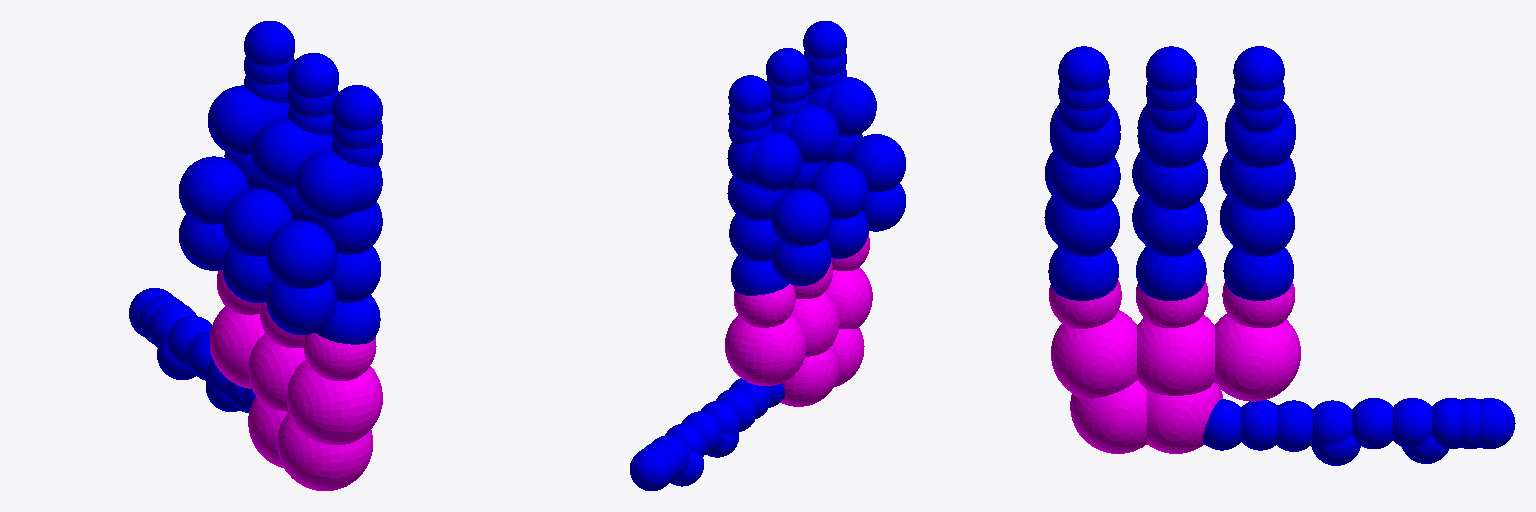
--- Render facts (derived) ---
The picture shows the robot from 3 angles, left to right: view 1: azimuth 30°, elevation 25°; view 2: azimuth 150°, elevation 25°; view 3: azimuth 270°, elevation 25°; orthographic projection.
Robot: leap_right — 71 links, 70 joints (16 revolute, 54 fixed); root link base; default pose: all joints at 0.
Links seen in each view (by area): view 1: palm_lower_collision_ball_2, palm_lower_collision_ball_3, pip_3_collision_ball_1, pip_collision_ball_1, pip_2_collision_ball_1, dip_3_collision_ball_2, dip_collision_ball_2, dip_2_collision_ball_2, pip_3_collision_ball_2, palm_lower_collision_ball_0, palm_lower_collision_ball_1, palm_lower_collision_ball_7 (+26 smaller); view 2: palm_lower_collision_ball_0, pip_collision_ball_1, dip_collision_ball_2, pip_3_collision_ball_1, pip_2_collision_ball_1, palm_lower_collision_ball_4, dip_3_collision_ball_2, dip_2_collision_ball_2, pip_collision_ball_2, palm_lower_collision_ball_1, palm_lower_collision_ball_2, palm_lower_collision_ball_5 (+23 smaller); view 3: palm_lower_collision_ball_0, palm_lower_collision_ball_2, palm_lower_collision_ball_1, palm_lower_collision_ball_3, palm_lower_collision_ball_4, pip_collision_ball_0, pip_2_collision_ball_0, pip_3_collision_ball_0, mcp_joint_collision_ball_0, mcp_joint_2_collision_ball_0, mcp_joint_3_collision_ball_0, dip_3_collision_ball_1 (+28 smaller).
Boxes of the visible links, <box> form: palm_lower_collision_ball_2: <box>287,360,382,444</box>; palm_lower_collision_ball_3: <box>277,412,372,490</box>; pip_3_collision_ball_1: <box>266,221,336,288</box>; pip_collision_ball_1: <box>179,156,248,224</box>; pip_2_collision_ball_1: <box>222,189,292,256</box>; dip_3_collision_ball_2: <box>295,150,355,219</box>; dip_collision_ball_2: <box>208,85,267,155</box>; dip_2_collision_ball_2: <box>252,118,311,187</box>; pip_3_collision_ball_2: <box>266,278,336,334</box>; palm_lower_collision_ball_0: <box>210,306,264,388</box>; palm_lower_collision_ball_1: <box>248,333,305,411</box>; palm_lower_collision_ball_7: <box>303,333,376,380</box>; palm_lower_collision_ball_0: <box>725,314,806,385</box>; pip_collision_ball_1: <box>771,189,831,246</box>; dip_collision_ball_2: <box>750,131,801,191</box>; pip_3_collision_ball_1: <box>846,134,905,191</box>; pip_2_collision_ball_1: <box>809,161,868,219</box>; palm_lower_collision_ball_4: <box>780,344,839,406</box>; dip_3_collision_ball_2: <box>826,77,876,136</box>; dip_2_collision_ball_2: <box>788,104,839,163</box>; pip_collision_ball_2: <box>771,238,831,285</box>; palm_lower_collision_ball_1: <box>792,291,839,356</box>; palm_lower_collision_ball_2: <box>826,267,872,328</box>; palm_lower_collision_ball_5: <box>734,284,795,327</box>; palm_lower_collision_ball_0: <box>1215,314,1300,401</box>; palm_lower_collision_ball_2: <box>1051,310,1136,398</box>; palm_lower_collision_ball_1: <box>1137,314,1214,395</box>; palm_lower_collision_ball_3: <box>1070,380,1146,453</box>; palm_lower_collision_ball_4: <box>1147,382,1222,453</box>; pip_collision_ball_0: <box>1224,199,1294,256</box>; pip_2_collision_ball_0: <box>1137,200,1207,256</box>; pip_3_collision_ball_0: <box>1049,199,1119,256</box>; mcp_joint_collision_ball_0: <box>1223,246,1293,300</box>; mcp_joint_2_collision_ball_0: <box>1136,247,1206,300</box>; mcp_joint_3_collision_ball_0: <box>1048,246,1118,300</box>; dip_3_collision_ball_1: <box>1050,156,1120,209</box>.
Size in the robot's own frame: 0.0689 by 0.2443 by 0.2375 metres.
Geometry: primitives only (box / cylinder / sphere), no mesh files.

The robot description file, URDF, robot "leap_right":
<?xml version="1.0" encoding="utf-8"?>
<robot name="leap_right">
  <link name="base"/>
  <joint name="base_joint" type="fixed">
    <parent link="base"/>
    <child link="palm_lower"/>
    <origin xyz="0 0.038 0.098" rpy="0 -1.57079 0"/>
  </joint>

  <link name="palm_lower">
    <inertial>
      <origin xyz="0 0 0" rpy="0 0 0"/>
      <mass value="0.237"/>
      <inertia ixx="0.000354094" ixy="-0.000001193" ixz="-0.000002445" iyy="0.000260915" iyz="-0.000002905" izz="0.000529257"/>
    </inertial>
  </link>

  <!-- palm balls -->

  <link name="palm_lower_collision_ball_0">
    <visual>
    <geometry>
    <sphere radius="0.025"/>
    </geometry>
    <material name="purple">
    <color rgba="1.0 0.0 1.0 1.0"/>
    </material>
    </visual>
    <collision>
    <geometry>
    <sphere radius="0.025"/>
    </geometry>
    </collision>
  </link>
  <joint name="palm_lower_collision_ball_0_joint" type="fixed">
    <parent link="palm_lower"/>
    <child link="palm_lower_collision_ball_0"/>
    <origin rpy="0 0 0" xyz="-0.045 0.005 -0.012 "/>
  </joint>

  <link name="palm_lower_collision_ball_1">
    <visual>
    <geometry>
    <sphere radius="0.025"/>
    </geometry>
    <material name="purple">
    <color rgba="1.0 0.0 1.0 1.0"/>
    </material>
    </visual>
    <collision>
    <geometry>
    <sphere radius="0.025"/>
    </geometry>
    </collision>
  </link>
  <joint name="palm_lower_collision_ball_1_joint" type="fixed">
    <parent link="palm_lower"/>
    <child link="palm_lower_collision_ball_1"/>
    <origin rpy="0 0 0" xyz="-0.045 -0.035 -0.012 "/>
  </joint>

  <link name="palm_lower_collision_ball_2">
    <visual>
    <geometry>
    <sphere radius="0.025"/>
    </geometry>
    <material name="purple">
    <color rgba="1.0 0.0 1.0 1.0"/>
    </material>
    </visual>
    <collision>
    <geometry>
    <sphere radius="0.025"/>
    </geometry>
    </collision>
  </link>
  <joint name="palm_lower_collision_ball_2_joint" type="fixed">
    <parent link="palm_lower"/>
    <child link="palm_lower_collision_ball_2"/>
    <origin rpy="0 0 0" xyz="-0.045 -0.075 -0.012 "/>
  </joint>

  <link name="palm_lower_collision_ball_3">
    <visual>
    <geometry>
    <sphere radius="0.025"/>
    </geometry>
    <material name="purple">
    <color rgba="1.0 0.0 1.0 1.0"/>
    </material>
    </visual>
    <collision>
    <geometry>
    <sphere radius="0.025"/>
    </geometry>
    </collision>
  </link>
  <joint name="palm_lower_collision_ball_3_joint" type="fixed">
    <parent link="palm_lower"/>
    <child link="palm_lower_collision_ball_3"/>
    <origin rpy="0 0 0" xyz="-0.075 -0.065 -0.012 "/>
  </joint>

  <link name="palm_lower_collision_ball_4">
    <visual>
    <geometry>
    <sphere radius="0.025"/>
    </geometry>
    <material name="purple">
    <color rgba="1.0 0.0 1.0 1.0"/>
    </material>
    </visual>
    <collision>
    <geometry>
    <sphere radius="0.025"/>
    </geometry>
    </collision>
  </link>
  <joint name="palm_lower_collision_ball_4_joint" type="fixed">
    <parent link="palm_lower"/>
    <child link="palm_lower_collision_ball_4"/>
    <origin rpy="0 0 0" xyz="-0.075 -0.035 -0.012 "/>
  </joint>

  <link name="palm_lower_collision_ball_5">
    <visual>
    <geometry>
    <sphere radius="0.019"/>
    </geometry>
    <material name="purple">
    <color rgba="1.0 0.0 1.0 1.0"/>
    </material>
    </visual>
    <collision>
    <geometry>
    <sphere radius="0.019"/>
    </geometry>
    </collision>
  </link>
  <joint name="palm_lower_collision_ball_5_joint" type="fixed">
    <parent link="palm_lower"/>
    <child link="palm_lower_collision_ball_5"/>
    <origin rpy="0 0 0" xyz="-0.012 0.008 -0.011 "/>
  </joint>

  <link name="palm_lower_collision_ball_6">
    <visual>
    <geometry>
    <sphere radius="0.019"/>
    </geometry>
    <material name="purple">
    <color rgba="1.0 0.0 1.0 1.0"/>
    </material>
    </visual>
    <collision>
    <geometry>
    <sphere radius="0.019"/>
    </geometry>
    </collision>
  </link>
  <joint name="palm_lower_collision_ball_6_joint" type="fixed">
    <parent link="palm_lower"/>
    <child link="palm_lower_collision_ball_6"/>
    <origin rpy="0 0 0" xyz="-0.012 -0.037 -0.011 "/>
  </joint>

  <link name="palm_lower_collision_ball_7">
    <visual>
    <geometry>
    <sphere radius="0.019"/>
    </geometry>
    <material name="purple">
    <color rgba="1.0 0.0 1.0 1.0"/>
    </material>
    </visual>
    <collision>
    <geometry>
    <sphere radius="0.019"/>
    </geometry>
    </collision>
  </link>
  <joint name="palm_lower_collision_ball_7_joint" type="fixed">
    <parent link="palm_lower"/>
    <child link="palm_lower_collision_ball_7"/>
    <origin rpy="0 0 0" xyz="-0.012 -0.082 -0.011 "/>
  </joint>

  <!-- index default -->

  <link name="mcp_joint">
    <inertial>
      <origin xyz="0 0 0" rpy="0 0 0"/>
      <mass value="0.044"/>
      <inertia ixx="0.000011499" ixy="0.000003049" ixz="0.000000121" iyy="0.000007796" iyz="0.000000112" izz="0.000014759"/>
    </inertial>
  </link>
  <link name="pip">
    <inertial>
      <origin xyz="0 0 0" rpy="0 0 0"/>
      <mass value="0.032"/>
      <inertia ixx="0.000004798" ixy="0.000000012" ixz="0.000000004" iyy="0.000002862" iyz="0.000000011" izz="0.000004234"/>
    </inertial>
  </link>
  <link name="dip">
    <inertial>
      <origin xyz="0 0 0" rpy="0 0 0"/>
      <mass value="0.037"/>
      <inertia ixx="0.000005542" ixy="-0.000000607" ixz="-0.000000017" iyy="0.000005727" iyz="-0.000000023" izz="0.000006682"/>
    </inertial>
  </link>
  <link name="fingertip">
    <inertial>
      <origin xyz="0 0 0" rpy="0 0 0"/>
      <mass value="0.016"/>
      <inertia ixx="0.000003368" ixy="0.000000115" ixz="0" iyy="0.000001556" iyz="0" izz="0.000002863"/>
    </inertial>
  </link>

  <joint name="0" type="revolute">
    <origin xyz="-0.0122 0.03810 0.01450" rpy="-1.57079 0 1.57079"/>
    <parent link="mcp_joint"/>
    <child link="pip"/>
    <axis xyz="0 0 -1"/>
    <limit effort="0.95" velocity="8.48" lower="-1.047" upper="1.047"/>
    <joint_properties friction="0.0"/>
  </joint>
  <joint name="1" type="revolute">
    <origin xyz="-0.0070 0.0230 -0.0187" rpy="1.57079 1.57079 0"/>
    <parent link="palm_lower"/>
    <child link="mcp_joint"/>
    <axis xyz="0 0 -1"/>
    <limit effort="0.95" velocity="8.48" lower="-0.314" upper="2.23"/>
    <joint_properties friction="0.0"/>
  </joint>
  <joint name="2" type="revolute">
    <origin xyz="0.015 0.0143 -0.013" rpy="1.57079 -1.57079 0"/>
    <parent link="pip"/>
    <child link="dip"/>
    <axis xyz="0 0 -1"/>
    <limit effort="0.95" velocity="8.48" lower="-0.506" upper="1.885"/>
    <joint_properties friction="0.0"/>
  </joint>
  <joint name="3" type="revolute">
    <origin xyz="0 -0.0361 0.0002" rpy="0 0 0"/>
    <parent link="dip"/>
    <child link="fingertip"/>
    <axis xyz="0 0 -1"/>
    <limit effort="0.95" velocity="8.48" lower="-0.366" upper="2.042"/>
    <joint_properties friction="0.0"/>
  </joint>

  <!-- index balls -->

  <link name="fingertip_collision_ball_0">
    <visual>
      <geometry>
        <sphere radius="0.0134"/>
      </geometry>
      <material name="blue">
      <color rgba="0.0 0.0 1.0 1.0"/>
    </material>
    </visual>
    <collision>
      <geometry>
      <sphere radius="0.0134"/>
      </geometry>
    </collision>
  </link>
  <joint name="fingertip_collision_ball_0_joint" type="fixed">
    <parent link="fingertip"/>
    <child link="fingertip_collision_ball_0"/>
    <origin rpy="0 0 0" xyz="-0.0015 -0.0382 0.0145"/>
  </joint>

  <link name="fingertip_collision_ball_1">
    <visual>
      <geometry>
      <sphere radius="0.0134"/>
      </geometry>
      <material name="blue">
      <color rgba="0.0 0.0 1.0 1.0"/>
      </material>
    </visual>
    <collision>
      <geometry>
      <sphere radius="0.0134"/>
      </geometry>
    </collision>

  </link>
  <joint name="fingertip_collision_ball_1_joint" type="fixed">
    <parent link="fingertip"/>
    <child link="fingertip_collision_ball_1"/>
    <origin rpy="0 0 0" xyz="-0.0015 -0.0162 0.0145"/>
  </joint>

  <link name="fingertip_collision_ball_2">
    <visual>
      <geometry>
      <sphere radius="0.0134"/>
      </geometry>
      <material name="blue">
      <color rgba="0.0 0.0 1.0 1.0"/>
      </material>
    </visual>
    <collision>
      <geometry>
      <sphere radius="0.0134"/>
      </geometry>
    </collision>

  </link>
  <joint name="fingertip_collision_ball_2_joint" type="fixed">
    <parent link="fingertip"/>
    <child link="fingertip_collision_ball_2"/>
    <origin rpy="0 0 0" xyz="-0.0015 -0.0272 0.0145"/>
  </joint>

  <link name="dip_collision_ball_0">
    <visual>
      <geometry>
      <sphere radius="0.0184"/>
      </geometry>
      <material name="blue">
      <color rgba="0.0 0.0 1.0 1.0"/>
      </material>
    </visual>
    <collision>
      <geometry>
      <sphere radius="0.0184"/>
      </geometry>
    </collision>
  </link>
  <joint name="dip_collision_ball_0_joint" type="fixed">
    <parent link="dip"/>
    <child link="dip_collision_ball_0"/>
    <origin rpy="0 0 0" xyz="0.004 -0.035  0.014"/>
  </joint>

  <link name="dip_collision_ball_1">
    <visual>
    <geometry>
    <sphere radius="0.0184"/>
    </geometry>
    <material name="blue">
    <color rgba="0.0 0.0 1.0 1.0"/>
    </material>
    </visual>
    <collision>
    <geometry>
    <sphere radius="0.0184"/>
    </geometry>
    </collision>
  </link>
  <joint name="dip_collision_ball_1_joint" type="fixed">
    <parent link="dip"/>
    <child link="dip_collision_ball_1"/>
    <origin rpy="0 0 0" xyz="0.004 -0.012  0.014"/>
  </joint>

  <link name="dip_collision_ball_2">
    <visual>
      <geometry>
      <sphere radius="0.0184"/>
      </geometry>
      <material name="blue">
      <color rgba="0.0 0.0 1.0 1.0"/>
      </material>
    </visual>
    <collision>
      <geometry>
      <sphere radius="0.0184"/>
      </geometry>
    </collision>
  </link>
  <joint name="dip_collision_ball_2_joint" type="fixed">
    <parent link="dip"/>
    <child link="dip_collision_ball_2"/>
    <origin rpy="0 0 0" xyz="0.014 -0.035  0.014"/>
  </joint>

  <link name="pip_collision_ball_0">
    <visual>
    <geometry>
    <sphere radius="0.0184"/>
    </geometry>
    <material name="blue">
    <color rgba="0.0 0.0 1.0 1.0"/>
    </material>
    </visual>
    <collision>
    <geometry>
    <sphere radius="0.0184"/>
    </geometry>
    </collision>
  </link>
  <joint name="pip_collision_ball_0_joint" type="fixed">
    <parent link="pip"/>
    <child link="pip_collision_ball_0"/>
    <origin rpy="0 0 0" xyz="0.00 0.0 -0.008"/>  
  </joint>

  <link name="pip_collision_ball_1">
    <visual>
    <geometry>
    <sphere radius="0.0184"/>
    </geometry>
    <material name="blue">
    <color rgba="0.0 0.0 1.0 1.0"/>
    </material>
    </visual>
    <collision>
    <geometry>
    <sphere radius="0.0184"/>
    </geometry>
    </collision>
  </link>
  <joint name="pip_collision_ball_1_joint" type="fixed">
    <parent link="pip"/>
    <child link="pip_collision_ball_1"/>
    <origin rpy="0 0 0" xyz="0.015 -0.0025 0.02"/>  
  </joint>

  <link name="pip_collision_ball_2">
    <visual>
    <geometry>
    <sphere radius="0.0184"/>
    </geometry>
    <material name="blue">
    <color rgba="0.0 0.0 1.0 1.0"/>
    </material>
    </visual>
    <collision>
    <geometry>
    <sphere radius="0.0184"/>
    </geometry>
    </collision>
  </link>
  <joint name="pip_collision_ball_2_joint" type="fixed">
    <parent link="pip"/>
    <child link="pip_collision_ball_2"/>
    <origin rpy="0 0 0" xyz="-0.01 -0.0025 0.02"/>  
  </joint>

  <link name="mcp_joint_collision_ball_0">
    <visual>
      <geometry>
      <sphere radius="0.0184"/>
      </geometry>
      <material name="blue">
      <color rgba="0.0 0.0 1.0 1.0"/>
      </material>
    </visual>
    <collision>
      <geometry>
      <sphere radius="0.0184"/>
      </geometry>
    </collision>
  </link>
  <joint name="mcp_joint_collision_ball_0_joint" type="fixed">
    <parent link="mcp_joint"/>
    <child link="mcp_joint_collision_ball_0"/>
    <origin rpy="0 0 0" xyz="-0.005 0.01 0.015"/>
  </joint>

  <!-- middle default -->

  <link name="mcp_joint_2">
    <inertial>
    <origin xyz="0 0 0" rpy="0 0 0"/>
    <mass value="0.044" />
    <inertia ixx="0.000011499" ixy="0.000003049"  ixz="0.000000121" iyy="0.000007796" iyz="0.000000112" izz="0.000014759" />
    </inertial>
  </link>
  <link name="pip_2">
    <inertial>
    <origin xyz="0 0 0" rpy="0 0 0"/>
    <mass value="0.032" />
    <inertia ixx="0.000004798" ixy="0.000000012"  ixz="0.000000004" iyy="0.000002862" iyz="0.000000011" izz="0.000004234" />
    </inertial>
  </link>
  <link name="dip_2">
    <inertial>
    <origin xyz="0 0 0" rpy="0 0 0"/>
    <mass value="0.037" />
    <inertia ixx="0.000005542" ixy="-0.000000607"  ixz="-0.000000017" iyy="0.000005727" iyz="-0.000000023" izz="0.000006682" />
    </inertial>
  </link>
  <link name="fingertip_2">
    <inertial>
    <origin xyz="0 0 0" rpy="0 0 0"/>
    <mass value="0.016" />
    <inertia ixx="0.000003368" ixy="0.000000115"  ixz="0" iyy="0.000001556" iyz="0" izz="0.000002863" />
    </inertial>
  </link>

  <joint name="4" type="revolute">
    <origin xyz="-0.0122 0.0381 0.0145" rpy="-1.57079 0 1.57079"/>
    <parent link="mcp_joint_2"/>
    <child link="pip_2"/>
    <axis xyz="0 0 -1"/>
    <limit effort="0.95" velocity="8.48" lower="-1.047" upper="1.047"/>
    <joint_properties friction="0.0"/>
  </joint>
  <joint name="5" type="revolute">
    <origin xyz="-0.0071 -0.0224 -0.0187" rpy="1.57079 1.57079 0"/>
    <parent link="palm_lower"/>
    <child link="mcp_joint_2"/>
    <axis xyz="0 0 -1"/>
    <limit effort="0.95" velocity="8.48" lower="-0.314" upper="2.23"/>
    <joint_properties friction="0.0"/>
  </joint>
  <joint name="6" type="revolute">
    <origin xyz="0.015 0.0143 -0.013" rpy="1.57079 -1.57079 0"/>
    <parent link="pip_2"/>
    <child link="dip_2"/>
    <axis xyz="0 0 -1"/>
    <limit effort="0.95" velocity="8.48" lower="-0.506" upper="1.885"/>
    <joint_properties friction="0.0"/>
  </joint>
  <joint name="7" type="revolute">
    <origin xyz="0 -0.0361 0.0002" rpy="0 0 0"/>
    <parent link="dip_2"/>
    <child link="fingertip_2"/>
    <axis xyz="0 0 -1"/>
    <limit effort="0.95" velocity="8.48" lower="-0.366" upper="2.042"/>
    <joint_properties friction="0.0"/>
  </joint>

  <!-- middle balls -->

  <link name="fingertip_2_collision_ball_0">
    <visual>
    <geometry>
    <sphere radius="0.0134"/>
    </geometry>
    <material name="blue">
    <color rgba="0.0 0.0 1.0 1.0"/>
    </material>
    </visual>
    <collision>
    <geometry>
    <sphere radius="0.0134"/>
    </geometry>
    </collision>
  </link>
  <joint name="fingertip_2_collision_ball_0_joint" type="fixed">
    <parent link="fingertip_2"/>
    <child link="fingertip_2_collision_ball_0"/>
    <origin rpy="0 0 0" xyz="-0.0015 -0.0382 0.0145"/>
  </joint>

  <link name="fingertip_2_collision_ball_1">
    <visual>
    <geometry>
    <sphere radius="0.0134"/>
    </geometry>
    <material name="blue">
    <color rgba="0.0 0.0 1.0 1.0"/>
    </material>
    </visual>
    <collision>
    <geometry>
    <sphere radius="0.0134"/>
    </geometry>
    </collision>
  </link>
  <joint name="fingertip_2_collision_ball_1_joint" type="fixed">
    <parent link="fingertip_2"/>
    <child link="fingertip_2_collision_ball_1"/>
    <origin rpy="0 0 0" xyz="-0.0015 -0.0162 0.0145"/>
  </joint>

  <link name="fingertip_2_collision_ball_2">
    <visual>
      <geometry>
      <sphere radius="0.0134"/>
      </geometry>
      <material name="blue">
      <color rgba="0.0 0.0 1.0 1.0"/>
      </material>
    </visual>
    <collision>
      <geometry>
      <sphere radius="0.0134"/>
      </geometry>
    </collision>
  </link>
  <joint name="fingertip_2_collision_ball_2_joint" type="fixed">
    <parent link="fingertip_2"/>
    <child link="fingertip_2_collision_ball_2"/>
    <origin rpy="0 0 0" xyz="-0.0015 -0.0272 0.0145"/>
  </joint>

  <link name="dip_2_collision_ball_0">
    <visual>
      <geometry>
      <sphere radius="0.0184"/>
      </geometry>
      <material name="blue">
      <color rgba="0.0 0.0 1.0 1.0"/>
      </material>
    </visual>
    <collision>
      <geometry>
      <sphere radius="0.0184"/>
      </geometry>
    </collision>
  </link>
  <joint name="dip_2_collision_ball_0_joint" type="fixed">
    <parent link="dip_2"/>
    <child link="dip_2_collision_ball_0"/>
    <origin rpy="0 0 0" xyz="0.004 -0.035  0.014"/>
  </joint>

  <link name="dip_2_collision_ball_1">
    <visual>
    <geometry>
    <sphere radius="0.0184"/>
    </geometry>
    <material name="blue">
    <color rgba="0.0 0.0 1.0 1.0"/>
    </material>
    </visual>
    <collision>
    <geometry>
    <sphere radius="0.0184"/>
    </geometry>
    </collision>
  </link>
  <joint name="dip_2_collision_ball_1_joint" type="fixed">
    <parent link="dip_2"/>
    <child link="dip_2_collision_ball_1"/>
    <origin rpy="0 0 0" xyz="0.004 -0.012  0.014"/>
  </joint>

  <link name="dip_2_collision_ball_2">
    <visual>
      <geometry>
      <sphere radius="0.0184"/>
      </geometry>
      <material name="blue">
      <color rgba="0.0 0.0 1.0 1.0"/>
      </material>
    </visual>
    <collision>
      <geometry>
      <sphere radius="0.0184"/>
      </geometry>
    </collision>
  </link>
  <joint name="dip_2_collision_ball_2_joint" type="fixed">
    <parent link="dip_2"/>
    <child link="dip_2_collision_ball_2"/>
    <origin rpy="0 0 0" xyz="0.014 -0.035  0.014"/>
  </joint>

  <link name="pip_2_collision_ball_0">
    <visual>
    <geometry>
    <sphere radius="0.0184"/>
    </geometry>
    <material name="blue">
    <color rgba="0.0 0.0 1.0 1.0"/>
    </material>
    </visual>
    <collision>
    <geometry>
    <sphere radius="0.0184"/>
    </geometry>
    </collision>
  </link>
  <joint name="pip_2_collision_ball_0_joint" type="fixed">
    <parent link="pip_2"/>
    <child link="pip_2_collision_ball_0"/>
    <origin rpy="0 0 0" xyz="0.00 0.0 -0.008"/>  
  </joint>

  <link name="pip_2_collision_ball_1">
    <visual>
    <geometry>
    <sphere radius="0.0184"/>
    </geometry>
    <material name="blue">
    <color rgba="0.0 0.0 1.0 1.0"/>
    </material>
    </visual>
    <collision>
    <geometry>
    <sphere radius="0.0184"/>
    </geometry>
    </collision>
  </link>
  <joint name="pip_2_collision_ball_1_joint" type="fixed">
    <parent link="pip_2"/>
    <child link="pip_2_collision_ball_1"/>
    <origin rpy="0 0 0" xyz="0.015 -0.0025 0.02"/> 
  </joint>

  <link name="pip_2_collision_ball_2">
    <visual>
    <geometry>
    <sphere radius="0.0184"/>
    </geometry>
    <material name="blue">
    <color rgba="0.0 0.0 1.0 1.0"/>
    </material>
    </visual>
    <collision>
    <geometry>
    <sphere radius="0.0184"/>
    </geometry>
    </collision>
  </link>
  <joint name="pip_2_collision_ball_2_joint" type="fixed">
    <parent link="pip_2"/>
    <child link="pip_2_collision_ball_2"/>
    <origin rpy="0 0 0" xyz="-0.01 -0.0025 0.02"/>  
  </joint>

  <link name="mcp_joint_2_collision_ball_0">
    <visual>
    <geometry>
    <sphere radius="0.0184"/>
    </geometry>
    <material name="blue">
    <color rgba="0.0 0.0 1.0 1.0"/>
    </material>
    </visual>
    <collision>
    <geometry>
    <sphere radius="0.0184"/>
    </geometry>
    </collision>
  </link>
  <joint name="mcp_joint_2_collision_ball_0_joint" type="fixed">
    <parent link="mcp_joint_2"/>
    <child link="mcp_joint_2_collision_ball_0"/>
    <origin rpy="0 0 0" xyz="-0.005 0.01 0.015"/>
  </joint>


  <!-- ring default -->

  <link name="mcp_joint_3">
    <inertial>
      <origin xyz="0 0 0" rpy="0 0 0"/>
      <mass value="0.044"/>
      <inertia ixx="0.000011499" ixy="0.000003049" ixz="0.000000121" iyy="0.000007796" iyz="0.000000112" izz="0.000014759"/>
    </inertial>
  </link>
  <link name="pip_3">
    <inertial>
      <origin xyz="0 0 0" rpy="0 0 0"/>
      <mass value="0.032"/>
      <inertia ixx="0.000004798" ixy="0.000000012" ixz="0.000000004" iyy="0.000002862" iyz="0.000000011" izz="0.000004234"/>
    </inertial>
  </link>
  <link name="dip_3">
    <inertial>
      <origin xyz="0 0 0" rpy="0 0 0"/>
      <mass value="0.037"/>
      <inertia ixx="0.000005542" ixy="-0.000000607" ixz="-0.000000017" iyy="0.000005727" iyz="-0.000000023" izz="0.000006682"/>
    </inertial>
  </link>
  <link name="fingertip_3">
    <inertial>
      <origin xyz="0 0 0" rpy="0 0 0"/>
      <mass value="0.016"/>
      <inertia ixx="0.000003368" ixy="0.000000115" ixz="0" iyy="0.000001556" iyz="0" izz="0.000002863"/>
    </inertial>
  </link>
  <joint name="8" type="revolute">
    <origin xyz="-0.0122 0.0381 0.0145" rpy="-1.57079 0 1.57079"/>
    <parent link="mcp_joint_3"/>
    <child link="pip_3"/>
    <axis xyz="0 0 -1"/>
    <limit effort="0.95" velocity="8.48" lower="-1.047" upper="1.047"/>
    <joint_properties friction="0.0"/>
  </joint>
  <joint name="9" type="revolute">
    <origin xyz="-0.00709 -0.0678 -0.0187" rpy="1.57079 1.57079 0"/>
    <parent link="palm_lower"/>
    <child link="mcp_joint_3"/>
    <axis xyz="0 0 -1"/>
    <limit effort="0.95" velocity="8.48" lower="-0.314" upper="2.23"/>
    <joint_properties friction="0.0"/>
  </joint>
  <joint name="10" type="revolute">
    <origin xyz="0.015 0.0143 -0.013" rpy="1.57079 -1.57079 0"/>
    <parent link="pip_3"/>
    <child link="dip_3"/>
    <axis xyz="0 0 -1"/>
    <limit effort="0.95" velocity="8.48" lower="-0.506" upper="1.885"/>
    <joint_properties friction="0.0"/>
  </joint>
  <joint name="11" type="revolute">
    <origin xyz="0 -0.03609 0.0002" rpy="0 0 0"/>
    <parent link="dip_3"/>
    <child link="fingertip_3"/>
    <axis xyz="0 0 -1"/>
    <limit effort="0.95" velocity="8.48" lower="-0.366" upper="2.042"/>
    <joint_properties friction="0.0"/>
  </joint>

  <!-- ring balls -->

  <link name="fingertip_3_collision_ball_0">
    <visual>
    <geometry>
    <sphere radius="0.0134"/>
    </geometry>
    <material name="blue">
    <color rgba="0.0 0.0 1.0 1.0"/>
    </material>
    </visual>
    <collision>
    <geometry>
    <sphere radius="0.0134"/>
    </geometry>
    </collision>
  </link>
  <joint name="fingertip_3_collision_ball_0_joint" type="fixed">
    <parent link="fingertip_3"/>
    <child link="fingertip_3_collision_ball_0"/>
    <origin rpy="0 0 0" xyz="-0.0015 -0.0382 0.0145"/>
  </joint>

  <link name="fingertip_3_collision_ball_1">
    <visual>
    <geometry>
    <sphere radius="0.0134"/>
    </geometry>
    <material name="blue">
    <color rgba="0.0 0.0 1.0 1.0"/>
    </material>
    </visual>
    <collision>
    <geometry>
    <sphere radius="0.0134"/>
    </geometry>
    </collision>
  </link>
  <joint name="fingertip_3_collision_ball_1_joint" type="fixed">
    <parent link="fingertip_3"/>
    <child link="fingertip_3_collision_ball_1"/>
    <origin rpy="0 0 0" xyz="-0.0015 -0.0162 0.0145"/>
  </joint>

  <link name="fingertip_3_collision_ball_2">
    <visual>
      <geometry>
      <sphere radius="0.0134"/>
      </geometry>
      <material name="blue">
      <color rgba="0.0 0.0 1.0 1.0"/>
      </material>
    </visual>
    <collision>
      <geometry>
      <sphere radius="0.0134"/>
      </geometry>
    </collision>
  </link>
  <joint name="fingertip_3_collision_ball_2_joint" type="fixed">
    <parent link="fingertip_3"/>
    <child link="fingertip_3_collision_ball_2"/>
    <origin rpy="0 0 0" xyz="-0.0015 -0.0272 0.0145"/>
  </joint>

  <link name="dip_3_collision_ball_0">
    <visual>
      <geometry>
      <sphere radius="0.0184"/>
      </geometry>
      <material name="blue">
      <color rgba="0.0 0.0 1.0 1.0"/>
      </material>
    </visual>
    <collision>
      <geometry>
      <sphere radius="0.0184"/>
      </geometry>
    </collision>
  </link>
  <joint name="dip_3_collision_ball_0_joint" type="fixed">
    <parent link="dip_3"/>
    <child link="dip_3_collision_ball_0"/>
    <origin rpy="0 0 0" xyz="0.004 -0.035  0.014"/>
  </joint>

  <link name="dip_3_collision_ball_1">
    <visual>
    <geometry>
    <sphere radius="0.0184"/>
    </geometry>
    <material name="blue">
    <color rgba="0.0 0.0 1.0 1.0"/>
    </material>
    </visual>
    <collision>
    <geometry>
    <sphere radius="0.0184"/>
    </geometry>
    </collision>
  </link>
  <joint name="dip_3_collision_ball_1_joint" type="fixed">
    <parent link="dip_3"/>
    <child link="dip_3_collision_ball_1"/>
    <origin rpy="0 0 0" xyz="0.004 -0.012  0.014"/>
  </joint>

  <link name="dip_3_collision_ball_2">
    <visual>
      <geometry>
      <sphere radius="0.0184"/>
      </geometry>
      <material name="blue">
      <color rgba="0.0 0.0 1.0 1.0"/>
      </material>
    </visual>
    <collision>
      <geometry>
      <sphere radius="0.0184"/>
      </geometry>
    </collision>
  </link>
  <joint name="dip_3_collision_ball_2_joint" type="fixed">
    <parent link="dip_3"/>
    <child link="dip_3_collision_ball_2"/>
    <origin rpy="0 0 0" xyz="0.014 -0.035  0.014"/>
  </joint>

  <link name="pip_3_collision_ball_0">
    <visual>
    <geometry>
    <sphere radius="0.0184"/>
    </geometry>
    <material name="blue">
    <color rgba="0.0 0.0 1.0 1.0"/>
    </material>
    </visual>
    <collision>
    <geometry>
    <sphere radius="0.0184"/>
    </geometry>
    </collision>
  </link>
  <joint name="pip_3_collision_ball_0_joint" type="fixed">
    <parent link="pip_3"/>
    <child link="pip_3_collision_ball_0"/>
    <origin rpy="0 0 0" xyz="0.00 0.0 -0.008"/>  
  </joint>

  <link name="pip_3_collision_ball_1">
    <visual>
    <geometry>
    <sphere radius="0.0184"/>
    </geometry>
    <material name="blue">
    <color rgba="0.0 0.0 1.0 1.0"/>
    </material>
    </visual>
    <collision>
    <geometry>
    <sphere radius="0.0184"/>
    </geometry>
    </collision>
  </link>
  <joint name="pip_3_collision_ball_1_joint" type="fixed">
    <parent link="pip_3"/>
    <child link="pip_3_collision_ball_1"/>
    <origin rpy="0 0 0" xyz="0.015 -0.0025 0.02"/> 
  </joint>

  <link name="pip_3_collision_ball_2">
    <visual>
    <geometry>
    <sphere radius="0.0184"/>
    </geometry>
    <material name="blue">
    <color rgba="0.0 0.0 1.0 1.0"/>
    </material>
    </visual>
    <collision>
    <geometry>
    <sphere radius="0.0184"/>
    </geometry>
    </collision>
  </link>
  <joint name="pip_3_collision_ball_2_joint" type="fixed">
    <parent link="pip_3"/>
    <child link="pip_3_collision_ball_2"/>
    <origin rpy="0 0 0" xyz="-0.01 -0.0025 0.02"/>  
  </joint>

  <link name="mcp_joint_3_collision_ball_0">
    <visual>
    <geometry>
    <sphere radius="0.0184"/>
    </geometry>
    <material name="blue">
    <color rgba="0.0 0.0 1.0 1.0"/>
    </material>
    </visual>
    <collision>
    <geometry>
    <sphere radius="0.0184"/>
    </geometry>
    </collision>
  </link>
  <joint name="mcp_joint_3_collision_ball_0_joint" type="fixed">
    <parent link="mcp_joint_3"/>
    <child link="mcp_joint_3_collision_ball_0"/>
    <origin rpy="0 0 0" xyz="-0.005 0.01 0.015"/>
  </joint>

  <!-- thumb default -->

  <link name="thumb_temp_base">
    <inertial>
      <origin xyz="0 0 0" rpy="0 0 0"/>
      <mass value="0.032"/>
      <inertia ixx="0.000004798" ixy="0.000000012" ixz="0.000000004" iyy="0.000002862" iyz="0.000000011" izz="0.000004234"/>
    </inertial>
  </link>
  <link name="thumb_pip">
    <inertial>
      <origin xyz="0 0 0" rpy="0 0 0"/>
      <mass value="0.003"/>
      <inertia ixx="0.000000593" ixy="0" ixz="0" iyy="0.000000549" iyz="0" izz="0.000000224"/>
    </inertial>
  </link>
  <link name="thumb_dip">
    <inertial>
      <origin xyz="0 0 0" rpy="0 0 0"/>
      <mass value="0.038"/>
      <inertia ixx="0.000008474" ixy="0.000000241" ixz="0.000000026" iyy="0.000003841" iyz="0.000000025" izz="0.000007679"/>
    </inertial>
  </link>
  <link name="thumb_fingertip">
    <inertial>
      <origin xyz="0 0 0" rpy="0 0 0"/>
      <mass value="0.049"/>
      <inertia ixx="0.000020372" ixy="-0.000000489" ixz="-0.00000003" iyy="0.000004336" iyz="-0.000000097" izz="0.000019845"/>
    </inertial>
  </link>
  <joint name="12" type="revolute">
    <origin xyz="-0.0693 -0.0012 -0.0216" rpy="0 1.57079 0"/>
    <parent link="palm_lower"/>
    <child link="thumb_temp_base"/>
    <axis xyz="0 0 -1"/>
    <limit effort="0.95" velocity="8.48" lower="-0.349" upper="2.094"/>
    <joint_properties friction="0.0"/>
  </joint>
  <joint name="13" type="revolute">
    <origin xyz="0 0.0143 -0.013" rpy="1.57079 -1.57079 0"/>
    <parent link="thumb_temp_base"/>
    <child link="thumb_pip"/>
    <axis xyz="0 0 -1"/>
    <limit effort="0.95" velocity="8.48" lower="-0.47" upper="2.443"/>
    <joint_properties friction="0.0"/>
  </joint>
  <joint name="14" type="revolute">
    <origin xyz="0 0.0145 -0.017" rpy="-1.57079 0 0"/>
    <parent link="thumb_pip"/>
    <child link="thumb_dip"/>
    <axis xyz="0 0 -1"/>
    <limit effort="0.95" velocity="8.48" lower="-1.20" upper="1.90"/>
    <joint_properties friction="0.0"/>
  </joint>
  <joint name="15" type="revolute">
    <origin xyz="0 0.0466 0.0002" rpy="0 0 3.14159"/>
    <parent link="thumb_dip"/>
    <child link="thumb_fingertip"/>
    <axis xyz="0 0 -1"/>
    <limit effort="0.95" velocity="8.48" lower="-1.34" upper="1.88"/>
    <joint_properties friction="0.0"/>
  </joint>

  <!-- thumb balls -->

  <link name="thumb_fingertip_collision_ball_0">
    <visual>
    <geometry>
    <sphere radius="0.0134"/>
    </geometry>
    <material name="blue">
    <color rgba="0.0 0.0 1.0 1.0"/>
    </material>
    </visual>
    <collision>
    <geometry>
    <sphere radius="0.0134"/>
    </geometry>
    </collision>
  </link>
  <joint name="thumb_fingertip_collision_ball_0_joint" type="fixed">
    <parent link="thumb_fingertip"/>
    <child link="thumb_fingertip_collision_ball_0"/>
    <origin rpy="0 0 0" xyz="-0.0015 -0.051 -0.0143"/>
  </joint>

  <link name="thumb_fingertip_collision_ball_1">
    <visual>
    <geometry>
    <sphere radius="0.0134"/>
    </geometry>
    <material name="blue">
    <color rgba="0.0 0.0 1.0 1.0"/>
    </material>
    </visual>
    <collision>
    <geometry>
    <sphere radius="0.0134"/>
    </geometry>
    </collision>
  </link>
  <joint name="thumb_fingertip_collision_ball_1_joint" type="fixed">
    <parent link="thumb_fingertip"/>
    <child link="thumb_fingertip_collision_ball_1"/>
    <origin rpy="0 0 0" xyz="-0.0015 -0.031 -0.0143"/>
  </joint>

  <link name="thumb_fingertip_collision_ball_2">
    <visual>
    <geometry>
    <sphere radius="0.0134"/>
    </geometry>
    <material name="blue">
    <color rgba="0.0 0.0 1.0 1.0"/>
    </material>
    </visual>
    <collision>
    <geometry>
    <sphere radius="0.0134"/>
    </geometry>
    </collision>
  </link>
  <joint name="thumb_fingertip_collision_ball_2_joint" type="fixed">
    <parent link="thumb_fingertip"/>
    <child link="thumb_fingertip_collision_ball_2"/>
    <origin rpy="0 0 0" xyz="-0.0015 -0.011 -0.0143"/>
  </joint>

  <link name="thumb_fingertip_collision_ball_3">
    <visual>
    <geometry>
    <sphere radius="0.0134"/>
    </geometry>
    <material name="blue">
    <color rgba="0.0 0.0 1.0 1.0"/>
    </material>
    </visual>
    <collision>
    <geometry>
    <sphere radius="0.0134"/>
    </geometry>
    </collision>
  </link>
  <joint name="thumb_fingertip_collision_ball_3_joint" type="fixed">
    <parent link="thumb_fingertip"/>
    <child link="thumb_fingertip_collision_ball_3"/>
    <origin rpy="0 0 0" xyz="-0.0015 0.009 -0.0143"/>
  </joint>

  <link name="thumb_fingertip_collision_ball_4">
    <visual>
    <geometry>
    <sphere radius="0.0134"/>
    </geometry>
    <material name="blue">
    <color rgba="0.0 0.0 1.0 1.0"/>
    </material>
    </visual>
    <collision>
    <geometry>
    <sphere radius="0.0134"/>
    </geometry>
    </collision>
  </link>
  <joint name="thumb_fingertip_collision_ball_4_joint" type="fixed">
    <parent link="thumb_fingertip"/>
    <child link="thumb_fingertip_collision_ball_4"/>
    <origin rpy="0 0 0" xyz="-0.0015 -0.041 -0.0143"/>
  </joint>

  <link name="thumb_fingertip_collision_ball_5">
    <visual>
    <geometry>
    <sphere radius="0.0134"/>
    </geometry>
    <material name="blue">
    <color rgba="0.0 0.0 1.0 1.0"/>
    </material>
    </visual>
    <collision>
    <geometry>
    <sphere radius="0.0134"/>
    </geometry>
    </collision>
  </link>
  <joint name="thumb_fingertip_collision_ball_5_joint" type="fixed">
    <parent link="thumb_fingertip"/>
    <child link="thumb_fingertip_collision_ball_5"/>
    <origin rpy="0 0 0" xyz="0.008 -0.018 -0.012"/>
  </joint>

  <link name="thumb_dip_collision_ball_0">
    <visual>
    <geometry>
    <sphere radius="0.0134"/>
    </geometry>
    <material name="blue">
    <color rgba="0.0 0.0 1.0 1.0"/>
    </material>
    </visual>
    <collision>
    <geometry>
    <sphere radius="0.0134"/>
    </geometry>
    </collision>
  </link>
  <joint name="thumb_dip_collision_ball_0_joint" type="fixed">
    <parent link="thumb_dip"/>
    <child link="thumb_dip_collision_ball_0"/>
    <origin rpy="0 0 0" xyz="0.0 0.016 -0.014"/>
  </joint>

  <link name="thumb_dip_collision_ball_1">
    <visual>
    <geometry>
    <sphere radius="0.0134"/>
    </geometry>
    <material name="blue">
    <color rgba="0.0 0.0 1.0 1.0"/>
    </material>
    </visual>
    <collision>
    <geometry>
    <sphere radius="0.0134"/>
    </geometry>
    </collision>
  </link>
  <joint name="thumb_dip_collision_ball_1_joint" type="fixed">
    <parent link="thumb_dip"/>
    <child link="thumb_dip_collision_ball_1"/>
    <origin rpy="0 0 0" xyz="0.0 -0.004 -0.014"/>
  </joint>

  <link name="thumb_dip_collision_ball_2">
    <visual>
    <geometry>
    <sphere radius="0.0134"/>
    </geometry>
    <material name="blue">
    <color rgba="0.0 0.0 1.0 1.0"/>
    </material>
    </visual>
    <collision>
    <geometry>
    <sphere radius="0.0134"/>
    </geometry>
    </collision>
  </link>
  <joint name="thumb_dip_collision_ball_2_joint" type="fixed">
    <parent link="thumb_dip"/>
    <child link="thumb_dip_collision_ball_2"/>
    <origin rpy="0 0 0" xyz="-0.008 0.018 -0.014"/>
  </joint>

  <link name="thumb_temp_base_collision_ball_0">
    <visual>
    <geometry>
    <sphere radius="0.0134"/>
    </geometry>
    <material name="blue">
    <color rgba="0.0 0.0 1.0 1.0"/>
    </material>
    </visual>
    <collision>
    <geometry>
    <sphere radius="0.0134"/>
    </geometry>
    </collision>
  </link>
  <joint name="thumb_temp_base_collision_ball_0_joint" type="fixed">
    <parent link="thumb_temp_base"/>
    <child link="thumb_temp_base_collision_ball_0"/>
    <origin rpy="0 0 0" xyz="0.0 0.01 -0.012 "/>
  </joint>

  <link name="thumb_temp_base_collision_ball_1">
    <visual>
    <geometry>
    <sphere radius="0.0134"/>
    </geometry>
    <material name="blue">
    <color rgba="0.0 0.0 1.0 1.0"/>
    </material>
    </visual>
    <collision>
    <geometry>
    <sphere radius="0.0134"/>
    </geometry>
    </collision>
  </link>
  <joint name="thumb_temp_base_collision_ball_1_joint" type="fixed">
    <parent link="thumb_temp_base"/>
    <child link="thumb_temp_base_collision_ball_1"/>
    <origin rpy="0 0 0" xyz="0.0 -0.01 -0.012 "/>
  </joint>

  <!--  virtual auxiliary link-->
  <link name="thumb_tip_head"/>
  <link name="index_tip_head"/>
  <link name="middle_tip_head"/>
  <link name="ring_tip_head"/>
  <joint name="thumb_tip" type="fixed">
    <parent link="thumb_fingertip"/>
    <child link="thumb_tip_head"/>
    <origin rpy="0 0 0" xyz="0 -0.06 -0.015"/>
  </joint>
  <joint name="index_tip" type="fixed">
    <parent link="fingertip"/>
    <child link="index_tip_head"/>
    <origin rpy="0 0 0" xyz="0 -0.048 0.015"/>
  </joint>
  <joint name="middle_tip" type="fixed">
    <parent link="fingertip_2"/>
    <child link="middle_tip_head"/>
    <origin rpy="0 0 0" xyz="0 -0.048 0.015"/>
  </joint>
  <joint name="ring_tip" type="fixed">
    <parent link="fingertip_3"/>
    <child link="ring_tip_head"/>
    <origin rpy="0 0 0" xyz="0 -0.048 0.015"/>
  </joint>
  
</robot>
